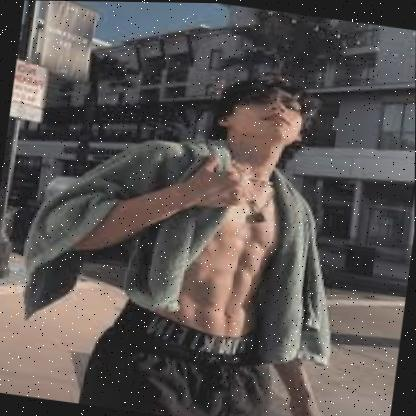person: (194, 69, 321, 158)
